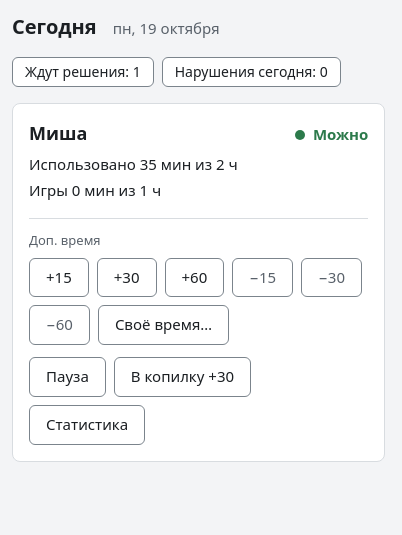
Today: добавить время › «+30»: карточка сразу с новым лимитом, «Добавлено 30 минут» и «Отменить»
The width and height of the screenshot is (402, 535).
What coordinates should you click on to do the following:
click the button "+30"
I would click on:
 (127, 278)
Its box is [97,258,157,298].
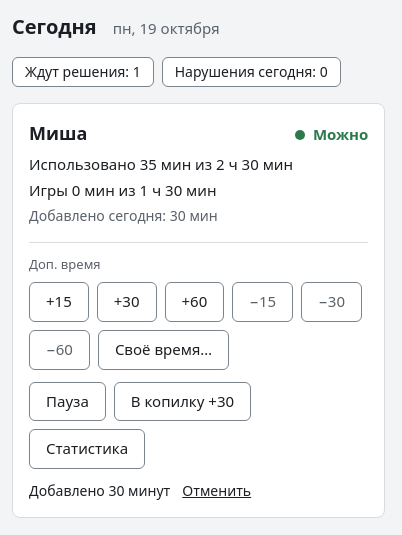
Now the text "Добавлено 30 минут" is shown, box [29,481,170,501]
Now the text "Использовано 35 мин из 2 ч 30 мин" is shown, box [29,154,293,174]
Now the button "Отменить" is shown, box [182,481,251,501]
